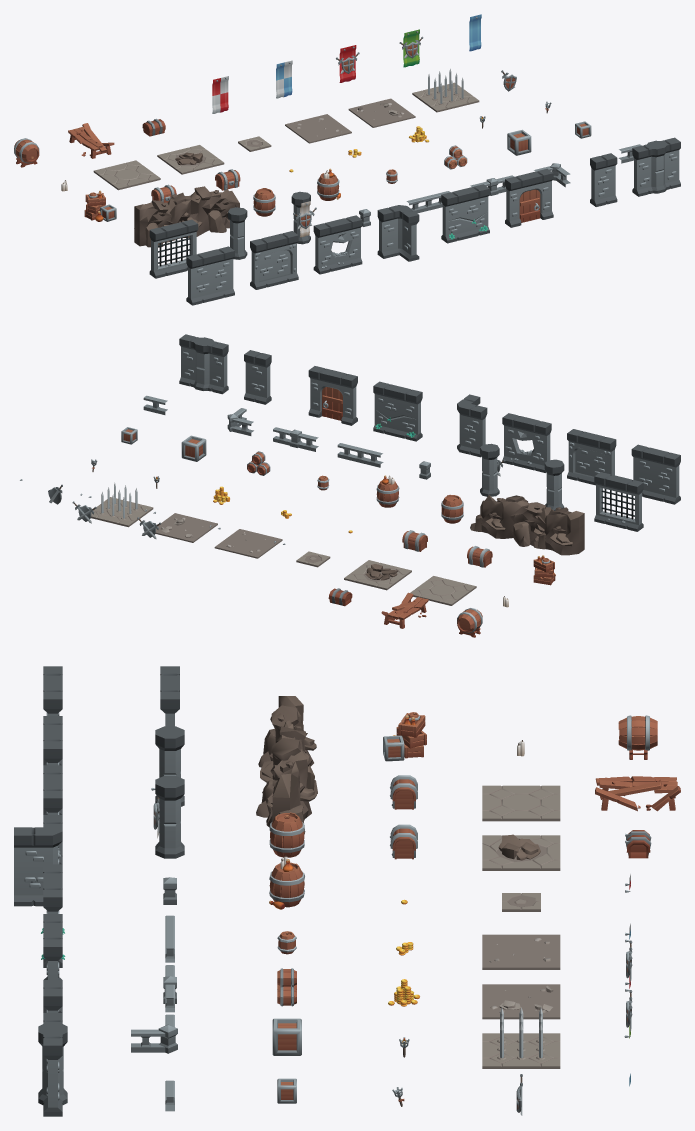
File: props.glb
3 renders of one model, top to bottom at view 1: azimuth 30°, elevation 25°; view 2: azimuth 150°, elevation 25°; view 3: azimuth 270°, elevation 25°, orthographic. The views are drawn at different scales.
Parts seen in each view (by area): view 1: wall_cracked, wall_pillar, wall, wall_arched, rubble_large, wall_broken, wall_corner, wall_gated, wall_doorway, wall_half, rubble_half, floor_tile_large (+19 smaller); view 2: rubble_large, wall_pillar, wall_cracked, wall, wall_broken, wall_gated, wall_arched, rubble_half, wall_doorway, wall_corner, wall_half, floor_tile_large_rocks (+17 smaller); view 3: rubble_large, wall_corner, floor_tile_large, floor_tile_large_rocks, floor_dirt_large, floor_dirt_large_rocky, floor_tile_big_spikes, wall_pillar, pillar_decorated, table_long_broken, crates_stacked, barrel_large_decorated (+14 smaller).
Part boxes in pixels (x1,y1,x2,y2): wall_cracked: (441, 184, 489, 243); wall_pillar: (632, 137, 680, 196); wall: (186, 246, 234, 305); wall_arched: (250, 231, 298, 289); rubble_large: (166, 186, 239, 242); wall_broken: (313, 215, 362, 274); wall_corner: (377, 205, 419, 261); wall_gated: (149, 219, 198, 278); wall_doorway: (505, 168, 553, 227); wall_half: (590, 153, 617, 206); rubble_half: (134, 200, 172, 247); floor_tile_large: (93, 160, 160, 190); rubble_large: (470, 495, 551, 546); wall_pillar: (179, 334, 228, 394); wall_cracked: (373, 381, 422, 441); wall: (631, 444, 680, 504); wall_broken: (502, 413, 551, 472); wall_gated: (594, 472, 643, 531); wall_arched: (567, 429, 616, 485); rubble_half: (533, 507, 584, 555); wall_doorway: (308, 366, 357, 425); wall_corner: (457, 394, 487, 457); wall_half: (244, 350, 271, 404); floor_tile_large_rocks: (344, 560, 411, 590); rubble_large: (256, 724, 317, 834); wall_corner: (14, 815, 62, 906); floor_tile_large: (482, 785, 560, 821); floor_tile_large_rocks: (482, 834, 560, 870); floor_dirt_large: (482, 934, 560, 969); floor_dirt_large_rocky: (482, 984, 560, 1019); floor_tile_big_spikes: (482, 1033, 560, 1068); wall_pillar: (38, 1013, 67, 1116); pillar_decorated: (151, 775, 184, 858); table_long_broken: (595, 776, 680, 811); crates_stacked: (383, 712, 426, 761); barrel_large_decorated: (269, 855, 304, 909).
Bounding box in the file's own units: 46 × 4.79 × 34.18.
1 material, 1 textured.
